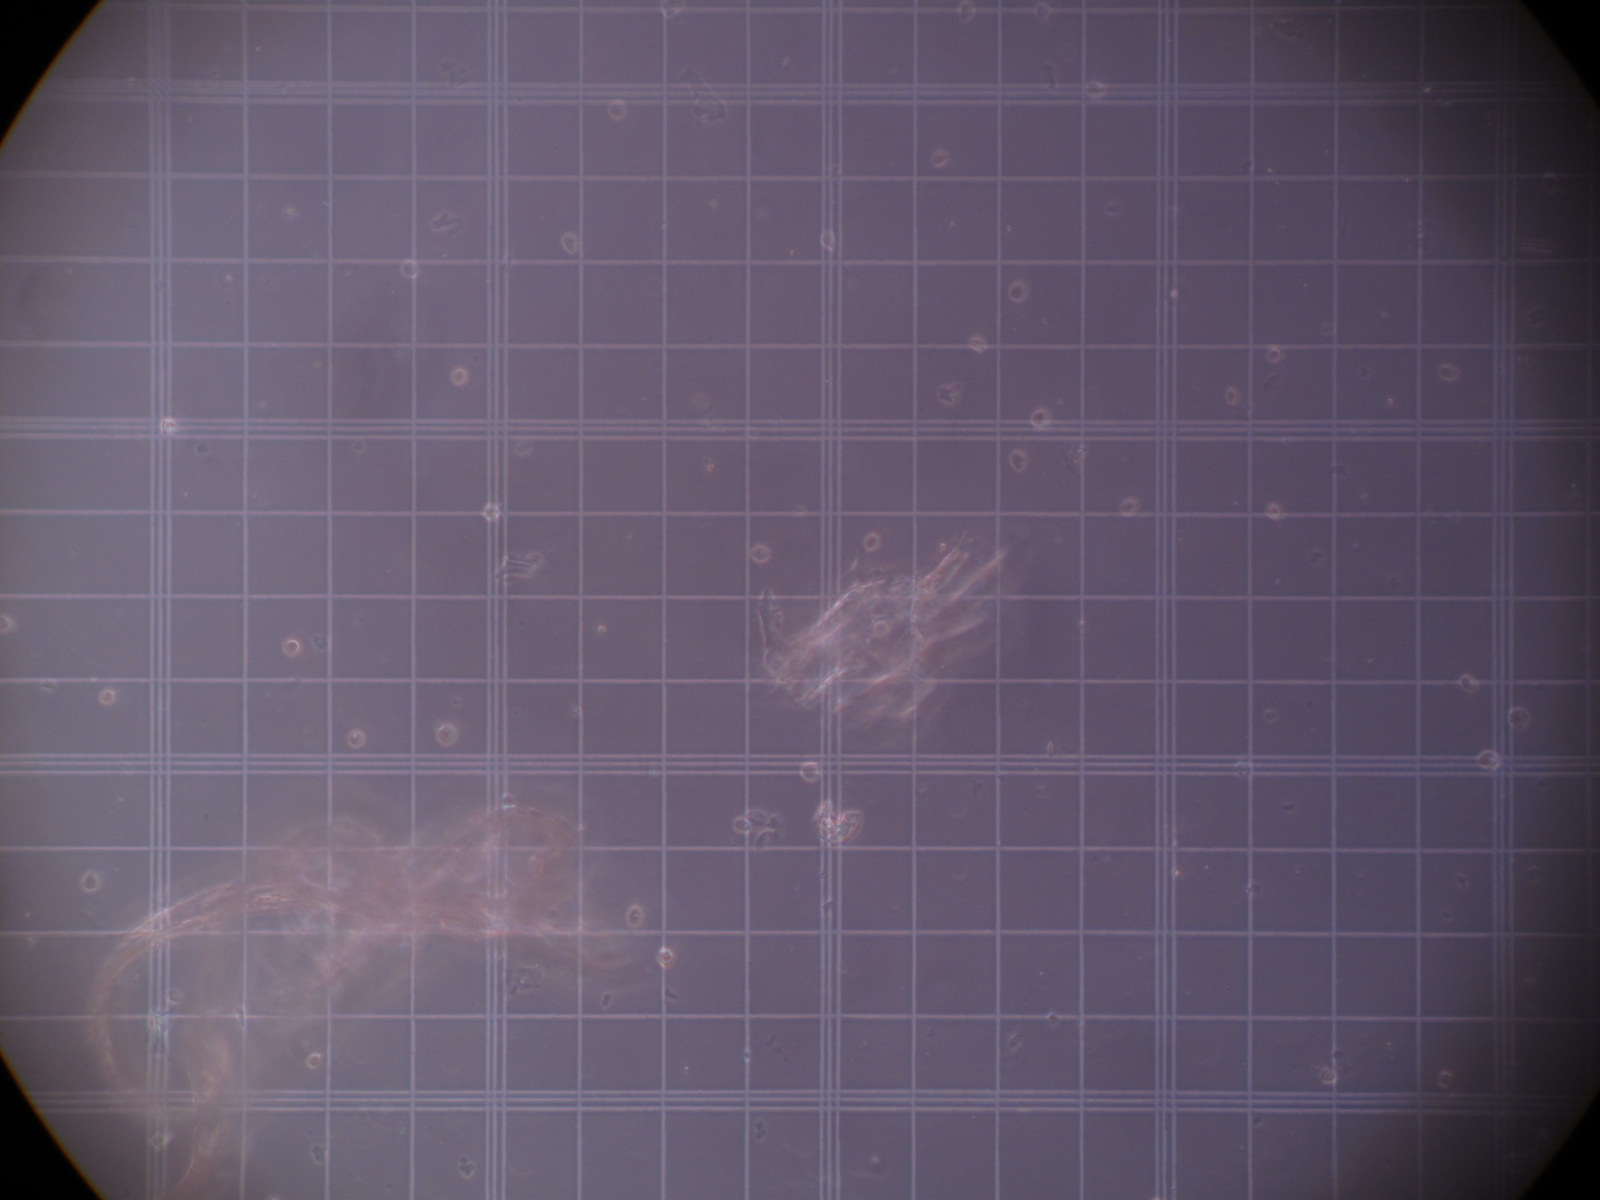cell: (758, 534, 1018, 730), (809, 798, 863, 847), (496, 551, 544, 584), (937, 384, 961, 406)
hemo: (1010, 453, 1029, 473), (864, 534, 882, 552), (1031, 410, 1047, 427)
